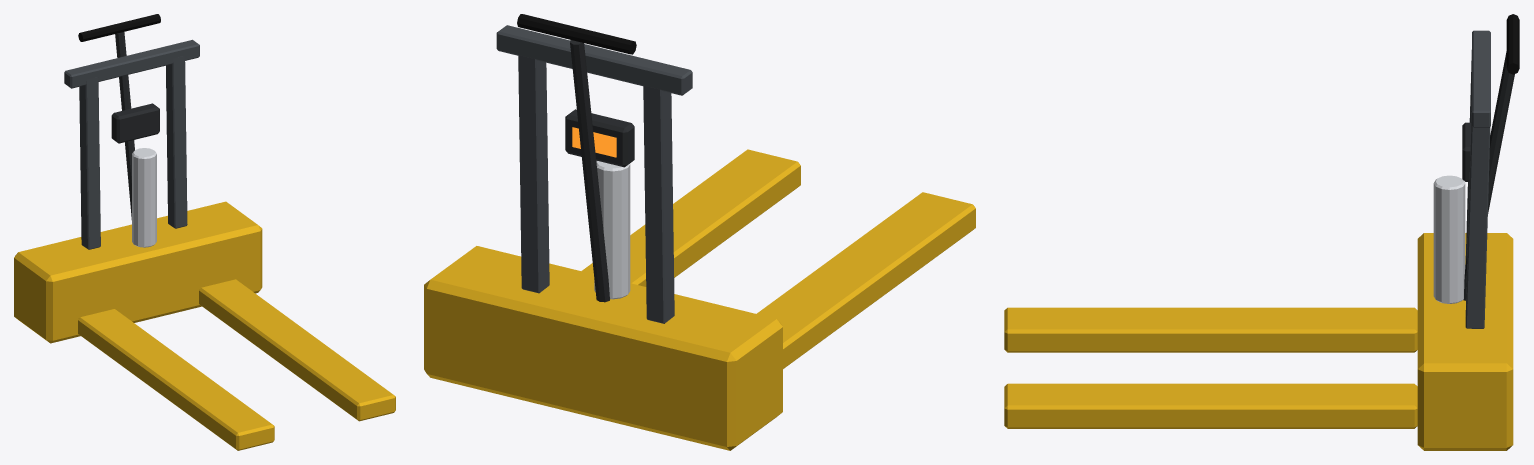
The model's file is pallet_lifter.glb.
3 renders of one model, left to right at view 1: azimuth 30°, elevation 25°; view 2: azimuth 150°, elevation 25°; view 3: azimuth 270°, elevation 25°, orthographic. The views are drawn at different scales.
Parts seen in each view (by area): view 1: pallet_lifter; view 2: pallet_lifter; view 3: pallet_lifter.
Boxes of the visible parts, x1,y1,x2,y2 form: pallet_lifter: [14, 14, 395, 450]; pallet_lifter: [424, 14, 975, 450]; pallet_lifter: [1004, 14, 1519, 450].
Size of the model in its own units: 1 by 1.2 by 1.6.
